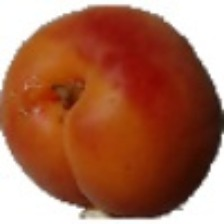apricot: (10, 28, 204, 223)
